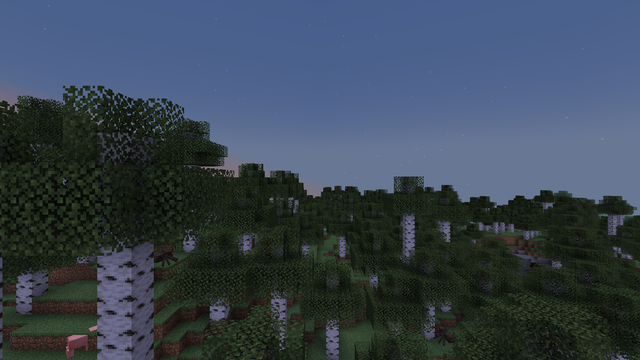araignees: (154, 249, 176, 265), (436, 325, 451, 344)
cochons: (64, 333, 87, 355)
